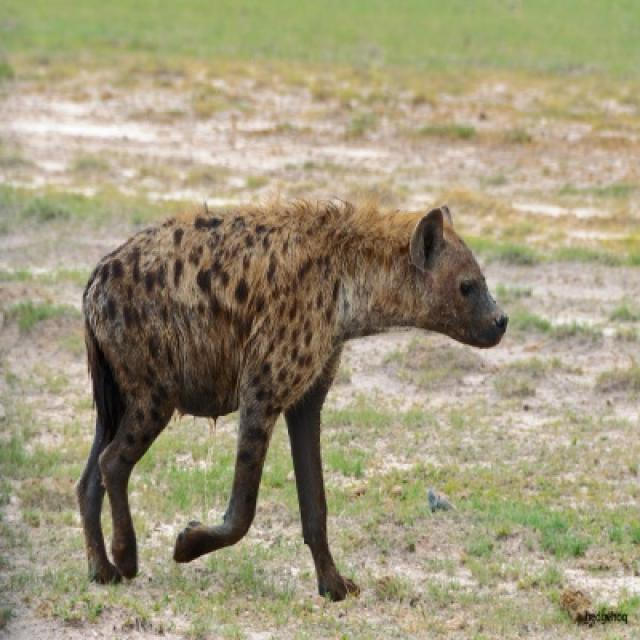hyena: (75, 203, 510, 603)
